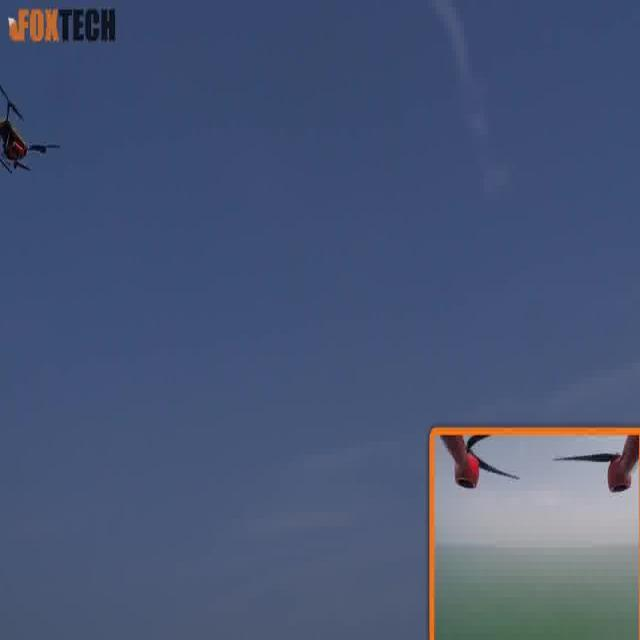drone: (0, 76, 68, 184)
